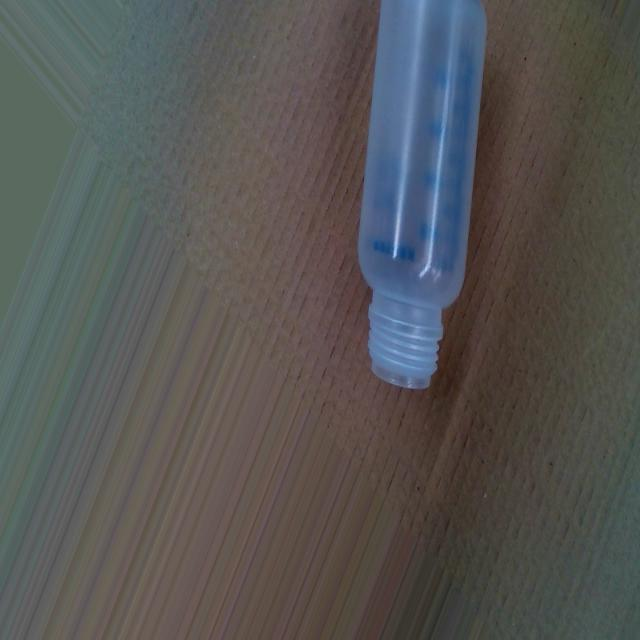bottle: (356, 4, 489, 394)
